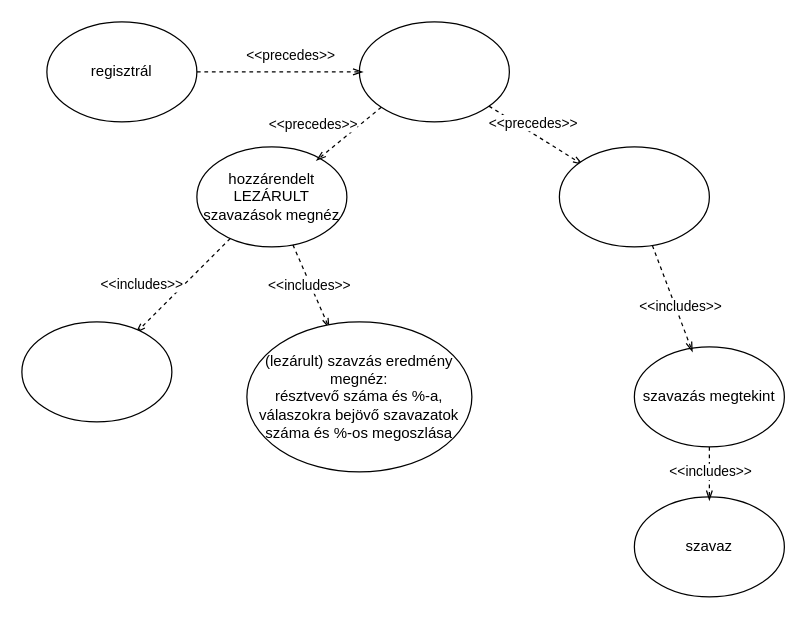
The diagram is 806 pixels wide and 619 high, and some of its shapes have lost their labels. The centre of each missing label's shape, as x and y in pixels:
bejelentkezik: pixel 433 71
hozzárendelt AKTÍV szavazasok megtekint: pixel 633 196
szűr kérdés részletre, időintervallumra: pixel 96 371
